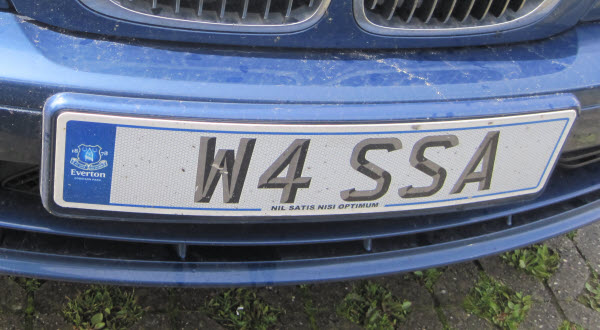license_plate: (54, 109, 575, 219)
